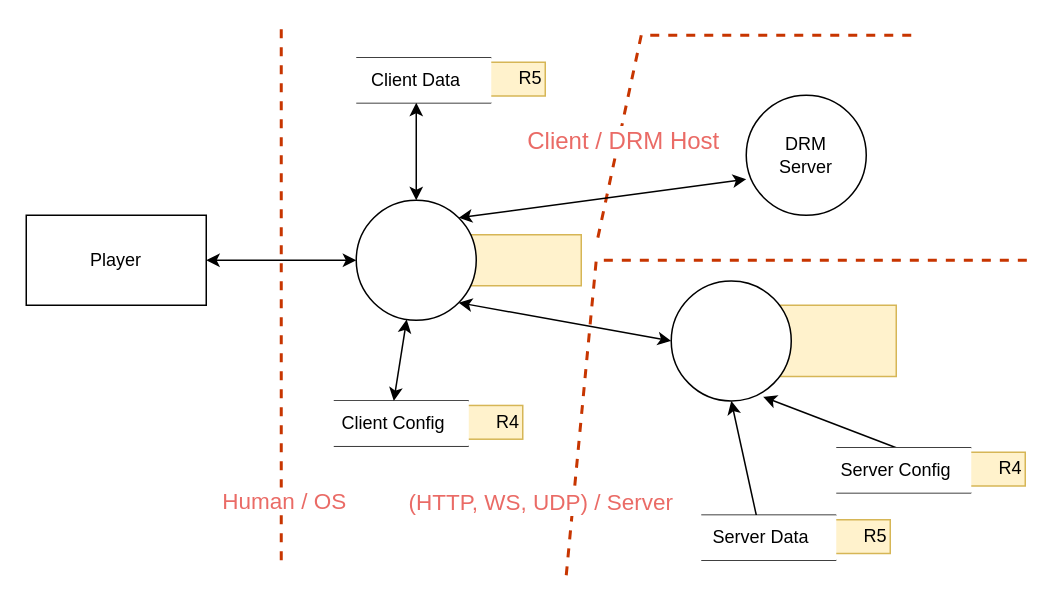
The diagram is 1061 pixels wide and 603 high, and some of its shapes have lost their labels. The shapes that lost their labels are listed below. From the top down, each one's centre as x and y in pixels, then its label:
(x=415, y=259): Game Client
(x=513, y=259): R1, R2, R3
(x=730, y=340): Game Server
(x=828, y=340): R1, R2, R3 R4
